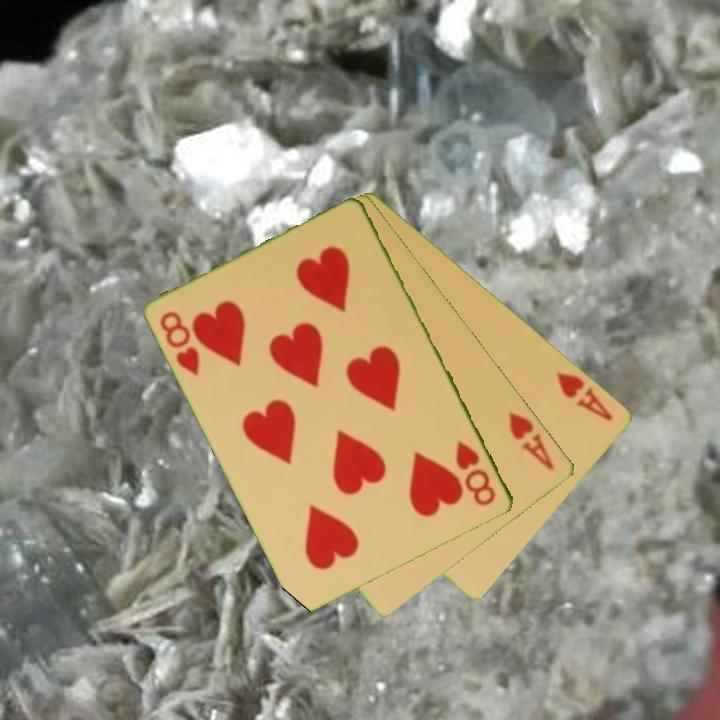8h: (452, 437, 499, 509), (156, 307, 203, 379)
Ah: (554, 368, 616, 424), (505, 408, 558, 473)
